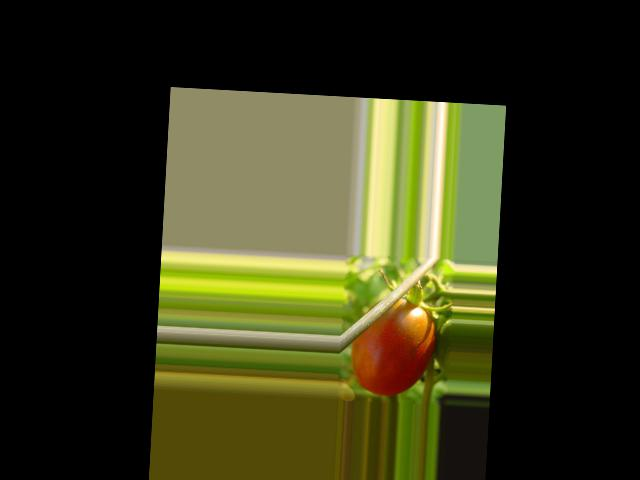tomato: (350, 295, 436, 397)
